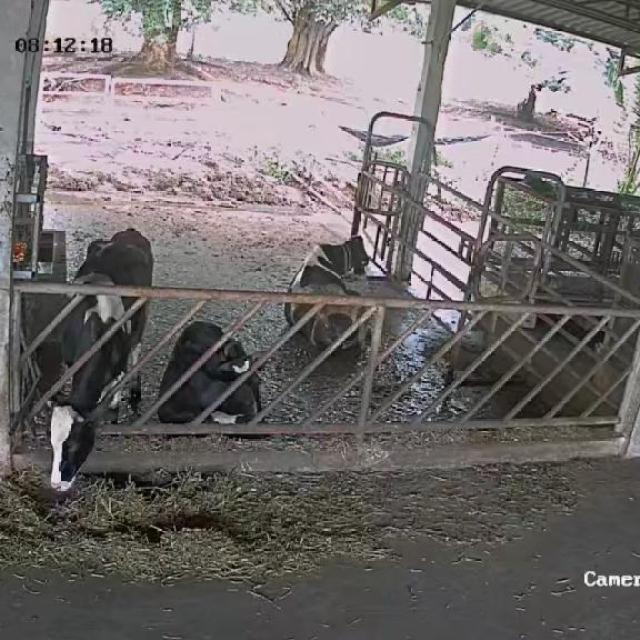feeding: (38, 228, 158, 492)
lying down: (286, 233, 382, 355), (156, 320, 262, 430)
